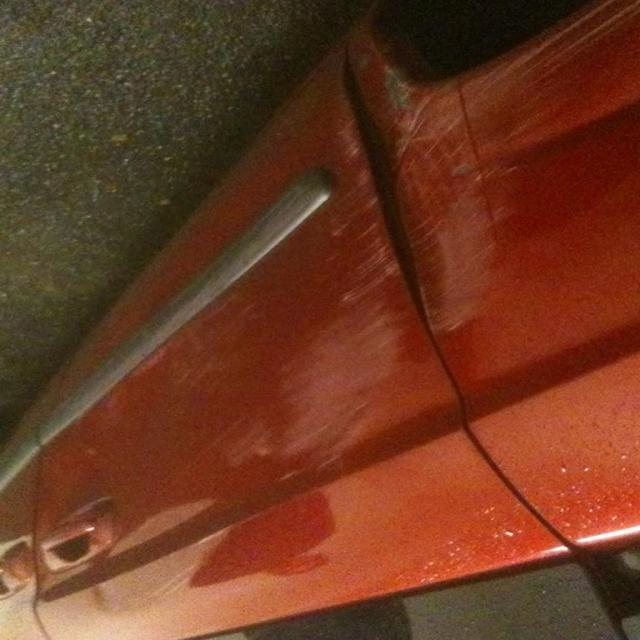scratch: (269, 65, 618, 472)
